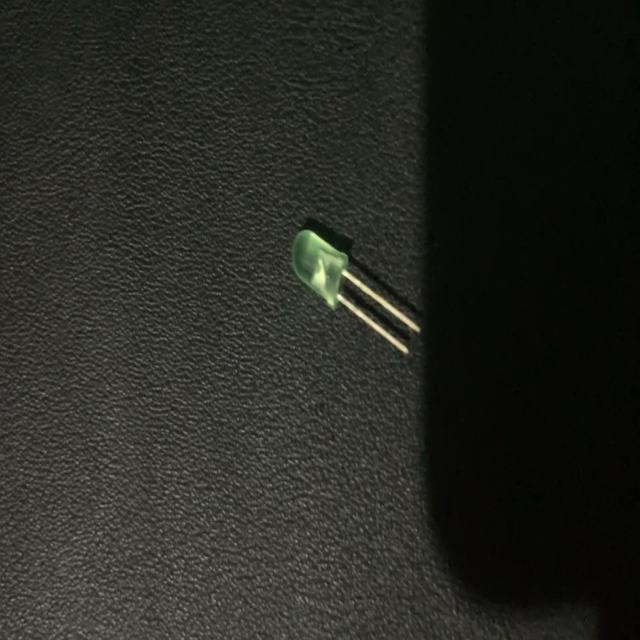LED: (292, 225, 421, 358)
